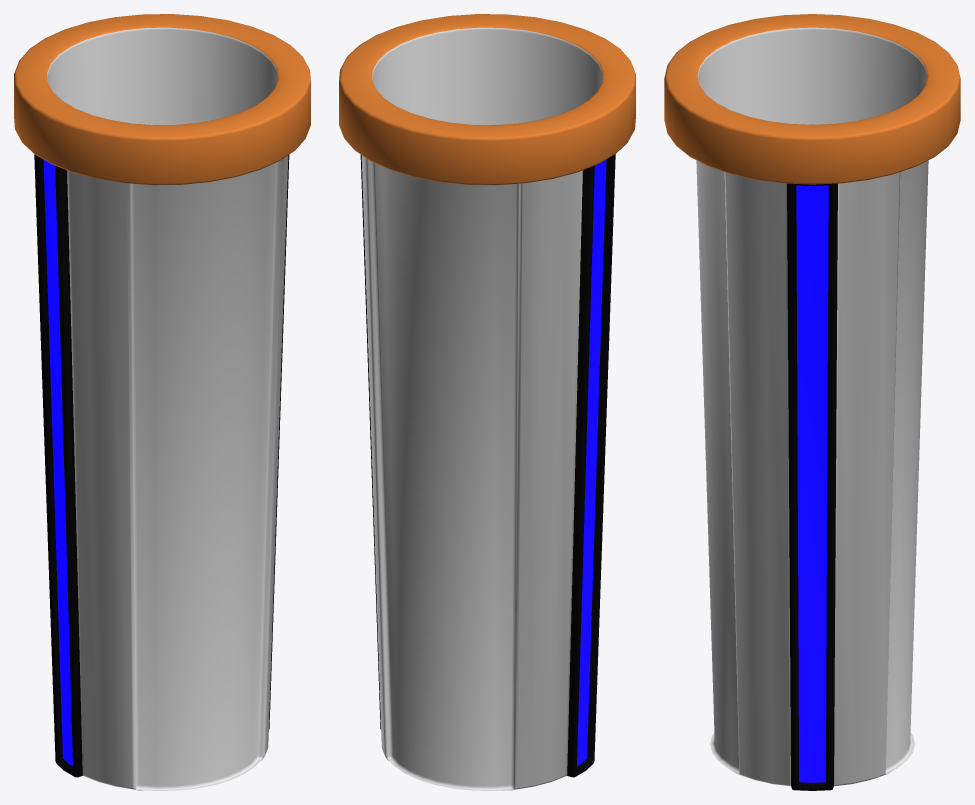
The model's file is Tubo 3.fbx.
The picture shows the model from 3 angles, left to right: view 1: azimuth 30°, elevation 25°; view 2: azimuth 150°, elevation 25°; view 3: azimuth 270°, elevation 25°; orthographic projection.
Visible parts, largest first — view 1: Tubo 3; view 2: Tubo 3; view 3: Tubo 3.
Part boxes in pixels (left/top/right/bottom): Tubo 3: left=14, top=14, right=310, bottom=790; Tubo 3: left=339, top=14, right=635, bottom=790; Tubo 3: left=664, top=14, right=960, bottom=790.
Size of the model in its own units: 562 by 1400 by 562.
